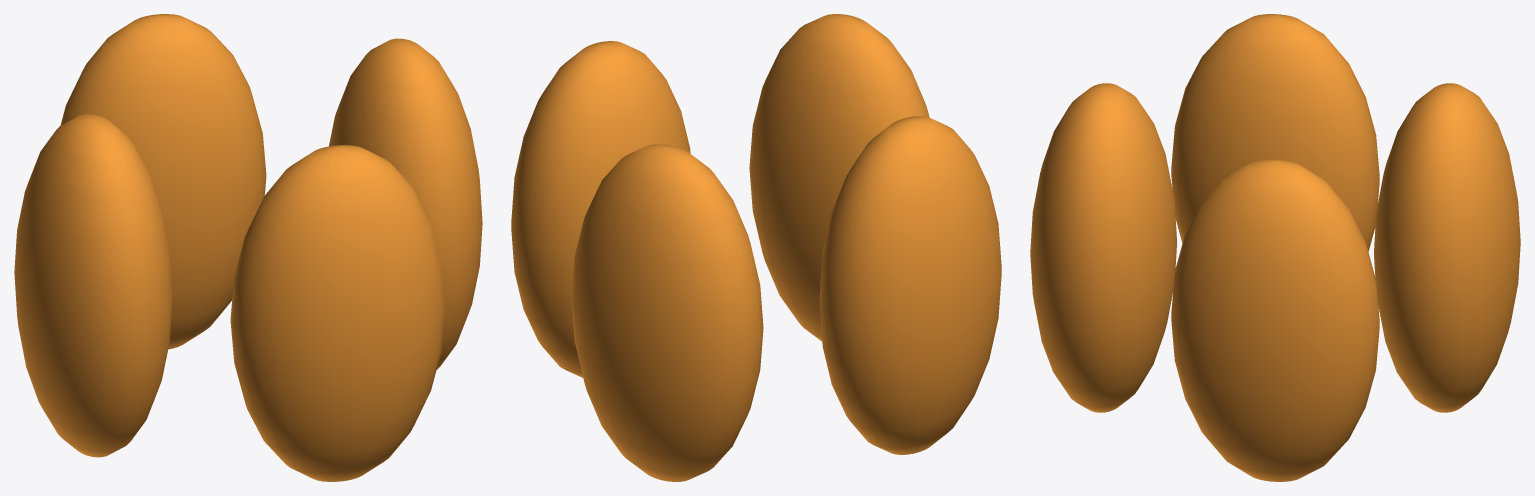
Rendered from crop_2_stage_0.fbx.
3 renders of one model, left to right at view 1: azimuth 30°, elevation 25°; view 2: azimuth 150°, elevation 25°; view 3: azimuth 270°, elevation 25°, orthographic. The views are drawn at different scales.
Parts seen in each view (by area): view 1: crop_2_stage_0; view 2: crop_2_stage_0; view 3: crop_2_stage_0.
Boxes of the visible parts, x1=… form: crop_2_stage_0: x1=14, y1=14, x2=482, y2=481; crop_2_stage_0: x1=511, y1=14, x2=1001, y2=481; crop_2_stage_0: x1=1030, y1=14, x2=1520, y2=481.
Size of the model in its own units: 0.049 by 0.035 by 0.049.
1 material, 1 textured.
